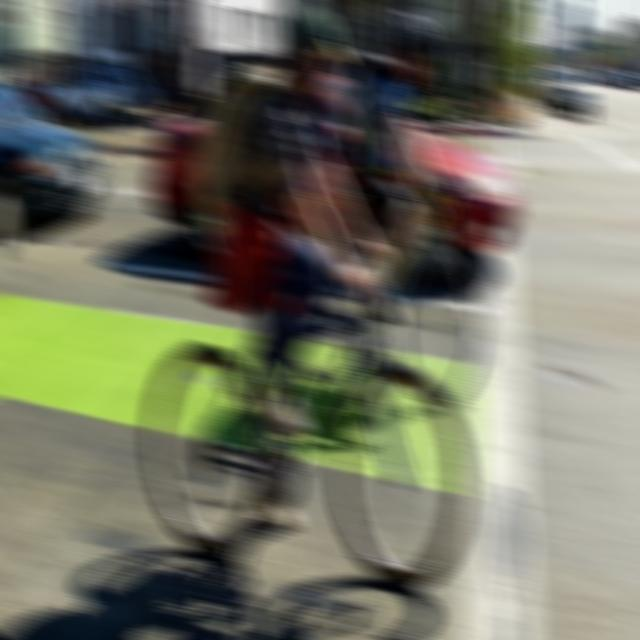With Helmet: (387, 2, 437, 96)
Without Helmet: (284, 0, 348, 108)
